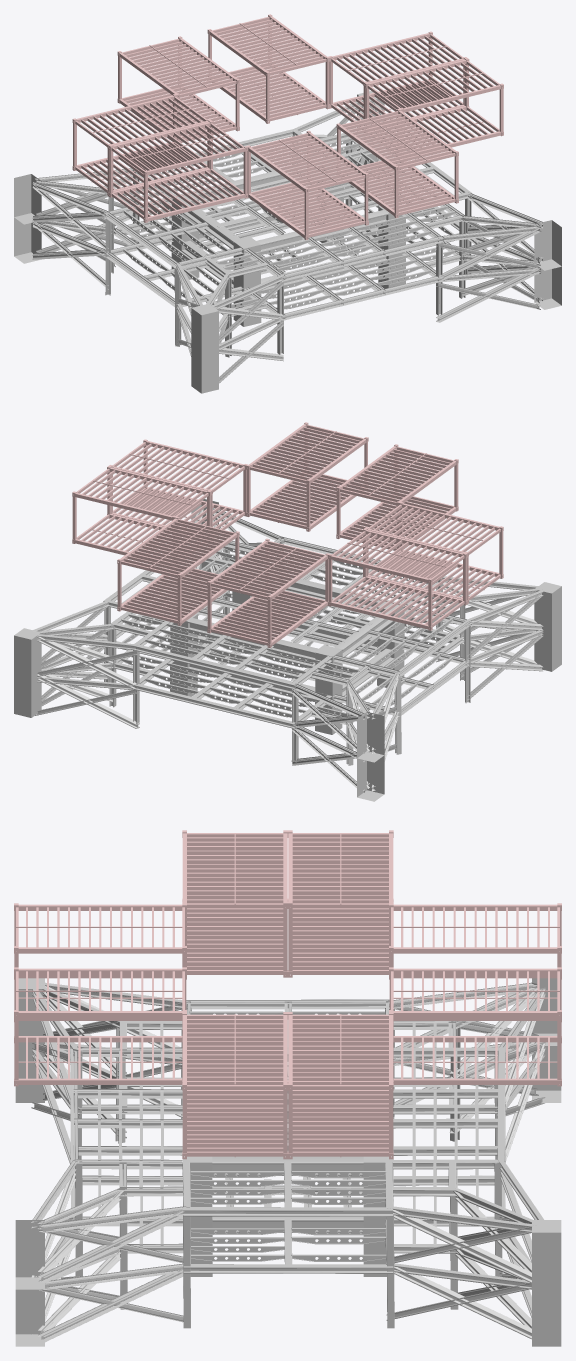
3 renders of one model, top to bottom at view 1: azimuth 30°, elevation 25°; view 2: azimuth 150°, elevation 25°; view 3: azimuth 270°, elevation 25°, orthographic. The views are drawn at different scales.
Visible parts, largest first — view 1: Line4371; view 2: Line4371; view 3: Line4371.
Part boxes in pixels (x1=…): Line4371: x1=14, y1=14, x2=561, y2=393; Line4371: x1=14, y1=422, x2=561, y2=801; Line4371: x1=14, y1=830, x2=561, y2=1346.
Bounding box in the file's own units: 28.87 × 14.26 × 26.12.
